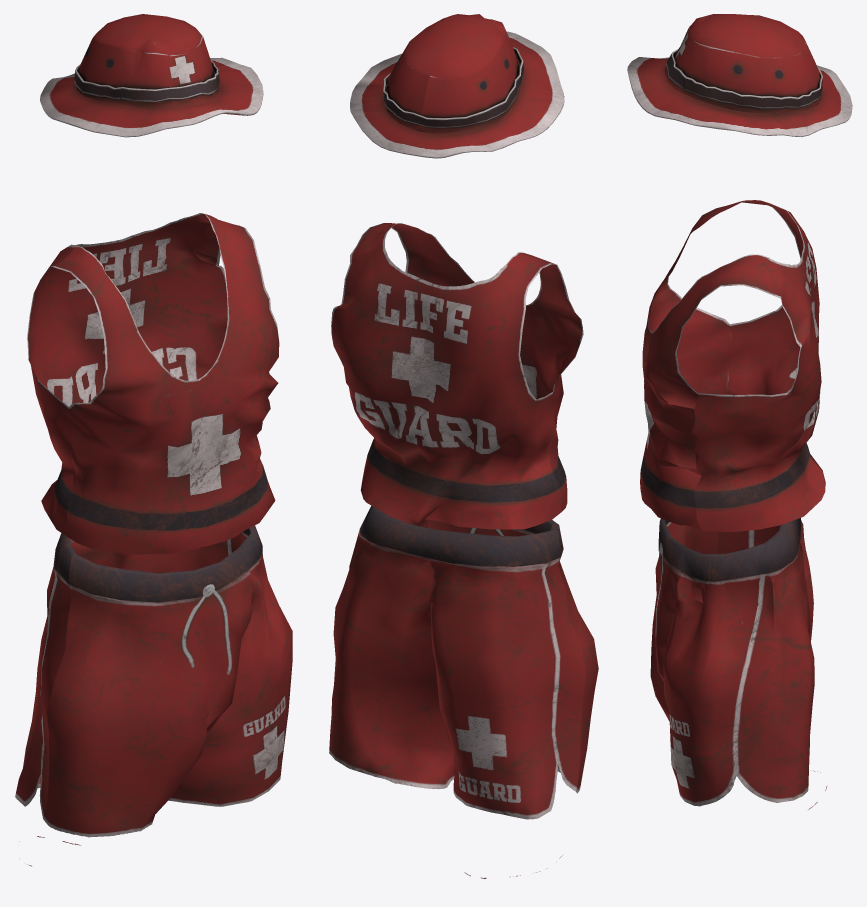
The model's file is lifeguard-clothing-set.fbx.
The picture shows the model from 3 angles, left to right: view 1: azimuth 30°, elevation 25°; view 2: azimuth 150°, elevation 25°; view 3: azimuth 270°, elevation 25°; orthographic projection. The views are drawn at different scales.
Parts seen in each view (by area): view 1: 16, 3; view 2: 16, 3; view 3: 16, 3.
Part boxes in pixels (bbox=[...]): 16: bbox=[15, 213, 292, 866]; 3: bbox=[40, 14, 263, 137]; 16: bbox=[329, 223, 598, 878]; 3: bbox=[350, 14, 564, 158]; 16: bbox=[640, 200, 826, 809]; 3: bbox=[627, 14, 852, 136].
Size of the model in its own units: 231 by 795 by 194.
2 materials, 2 textured.
